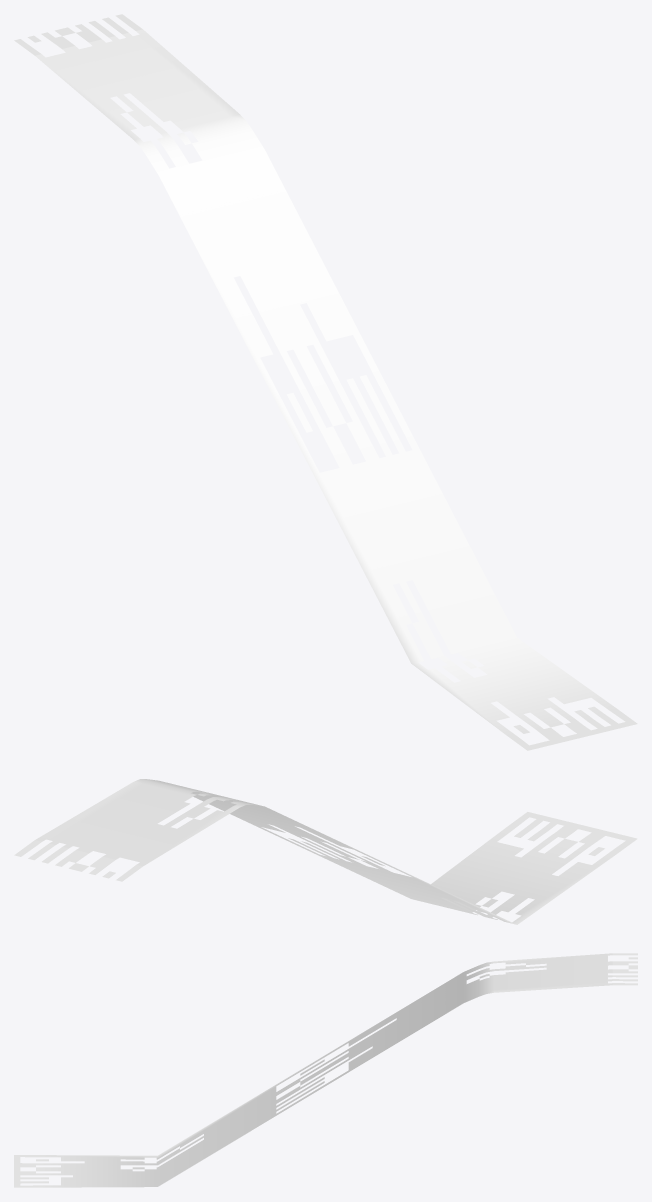
Rendered from k_spkaidan_01b.dae.
The picture shows the model from 3 angles, top to bottom: view 1: azimuth 30°, elevation 25°; view 2: azimuth 150°, elevation 25°; view 3: azimuth 270°, elevation 25°; orthographic projection. The views are drawn at different scales.
Visible parts, largest first — view 1: Shape 0; view 2: Shape 0; view 3: Shape 0.
Part boxes in pixels (x1,y1,x2,y2): Shape 0: (14, 14, 637, 750); Shape 0: (14, 779, 637, 924); Shape 0: (14, 953, 637, 1187).
Size of the model in its own units: 520 by 1501 by 4200.
1 material, 1 textured.
